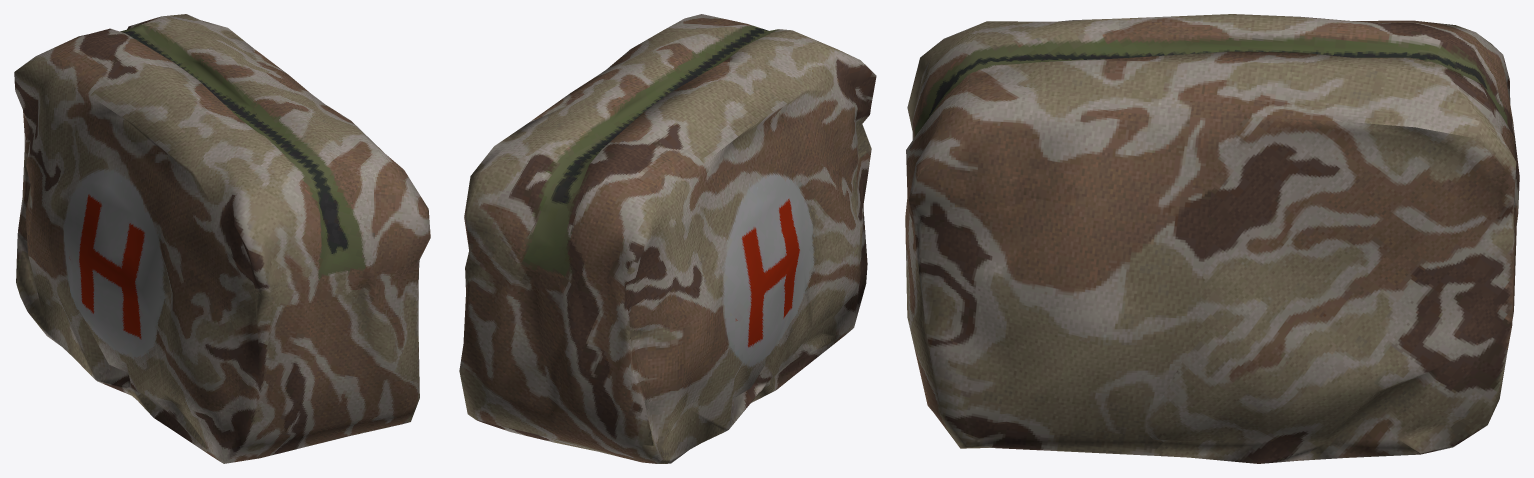
The model's file is First Aid Kit.fbx.
3 views of the same model, side by side, from view 1: azimuth 30°, elevation 25°; view 2: azimuth 150°, elevation 25°; view 3: azimuth 270°, elevation 25° (orthographic). The views are drawn at different scales.
Visible parts, largest first — view 1: First Aid Kit; view 2: First Aid Kit; view 3: First Aid Kit.
Part boxes in pixels (x1,y1,x2,y2): First Aid Kit: (14, 14, 430, 463); First Aid Kit: (459, 14, 876, 463); First Aid Kit: (905, 14, 1519, 463).
Bounding box in the file's own units: 56.77 × 69.94 × 105.
